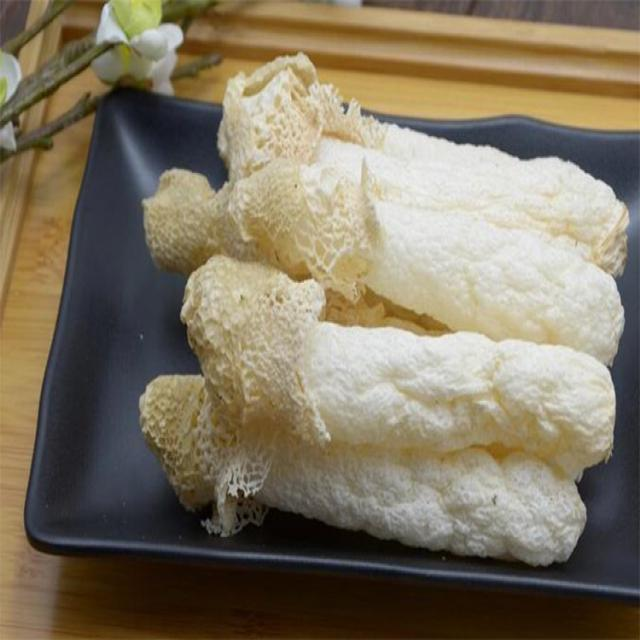Dictyophora indusiate: (182, 258, 616, 467), (142, 371, 586, 567), (217, 58, 629, 267), (228, 162, 627, 359)
